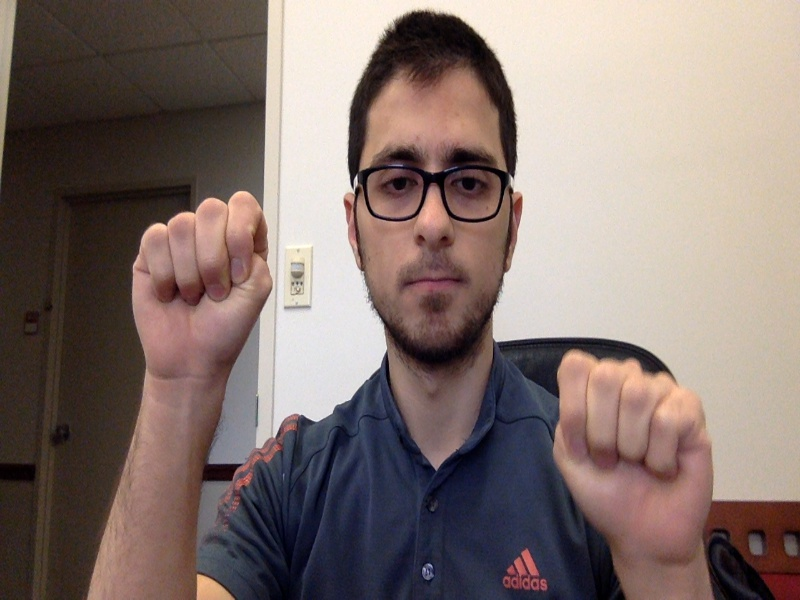0-hand: (553, 349, 713, 557), (131, 190, 272, 385)
